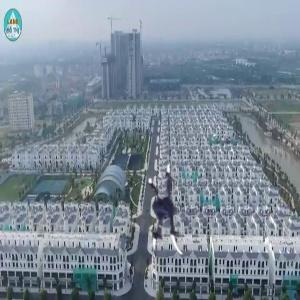drone: (129, 166, 221, 258)
